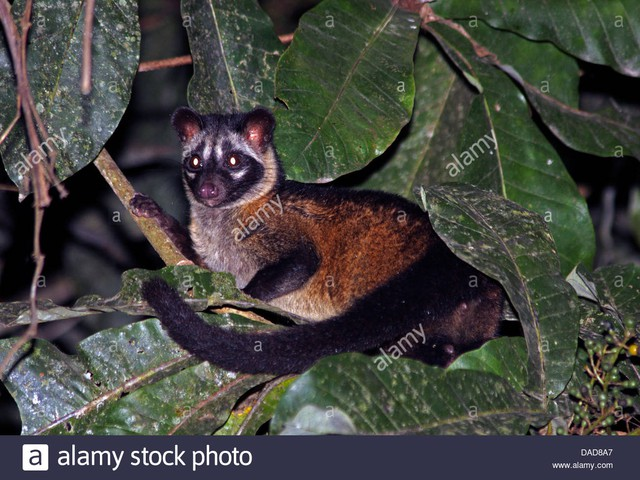civet: (132, 103, 508, 378)
